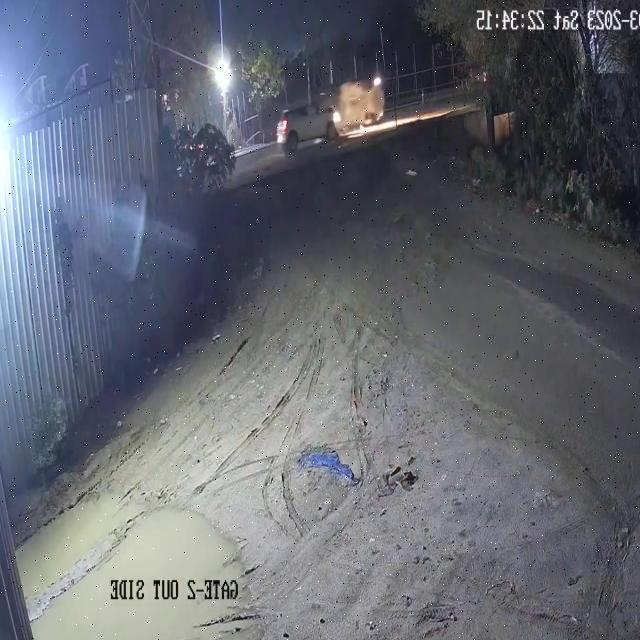accident: (271, 75, 388, 160)
